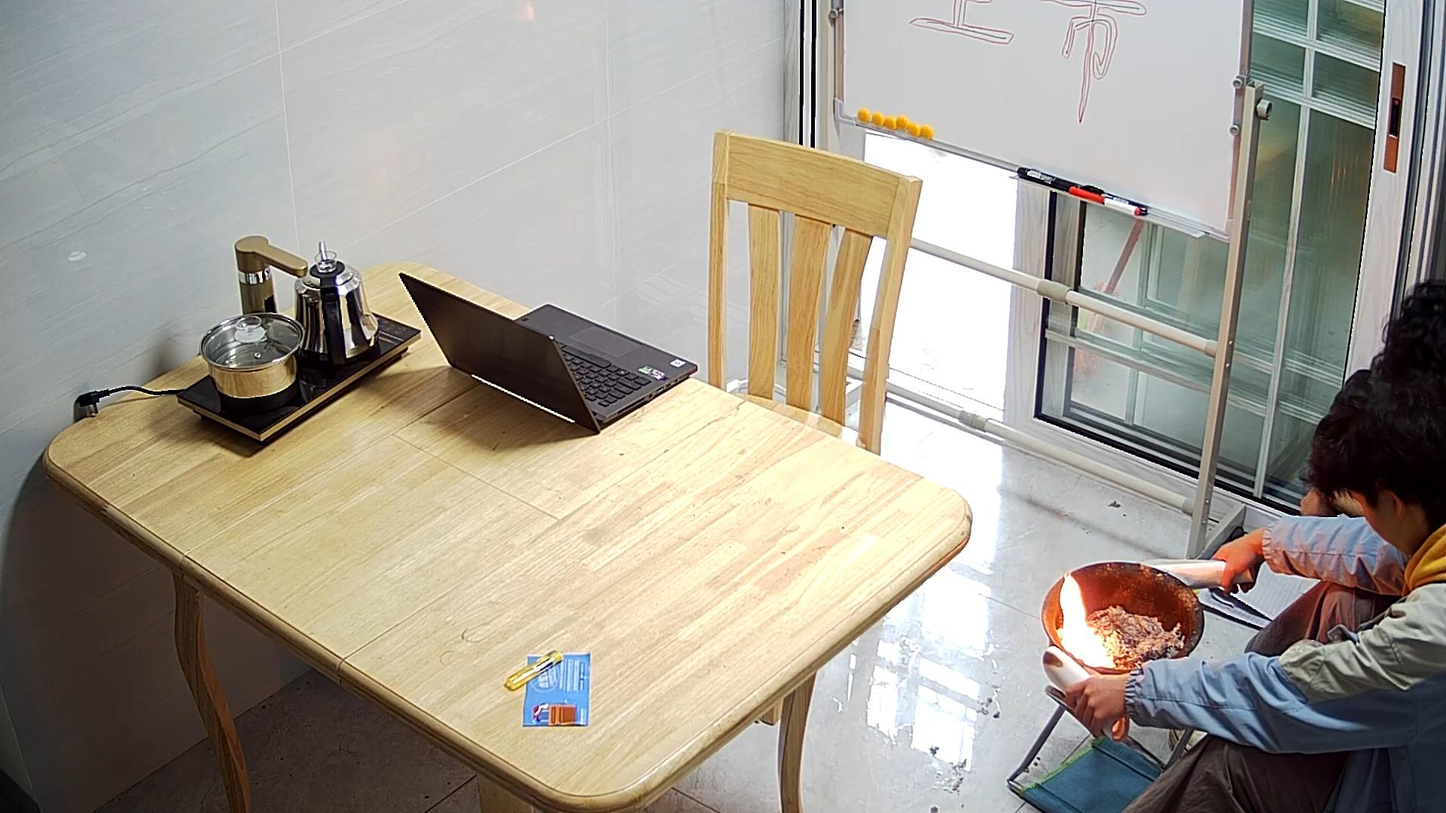fire: (1057, 572, 1124, 668)
